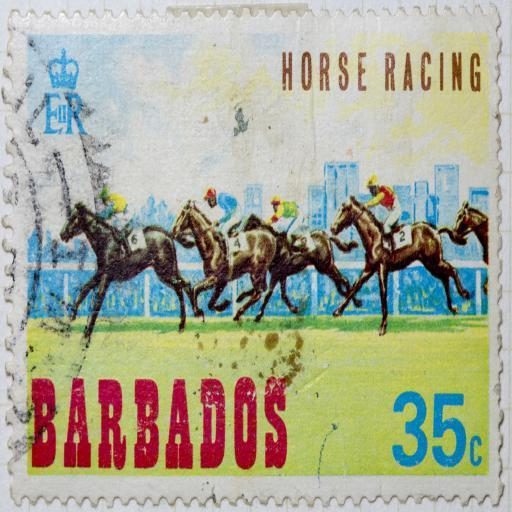horse: (60, 196, 490, 346)
